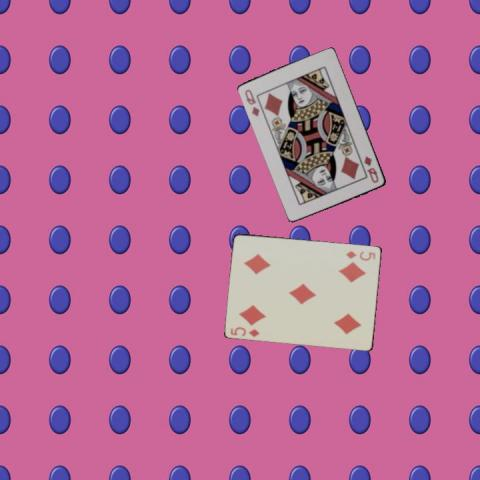5d: (228, 323, 261, 338), (342, 248, 376, 261)
Qd: (361, 153, 380, 185), (242, 86, 261, 118)
